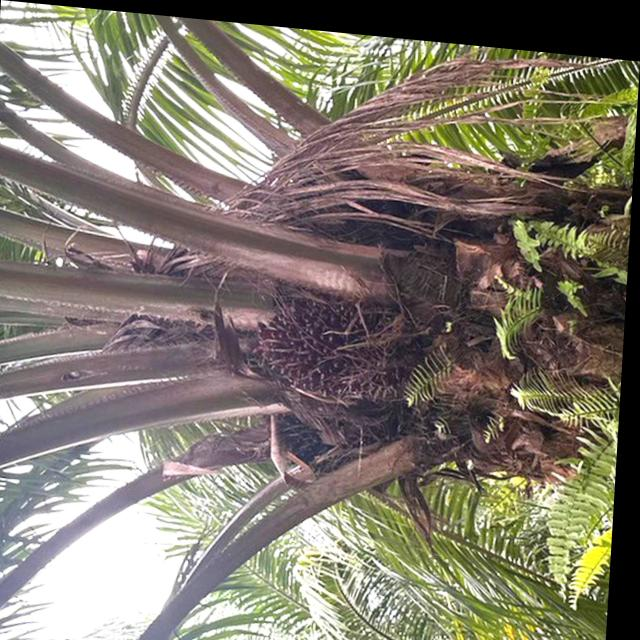ripe: (250, 268, 423, 398)
